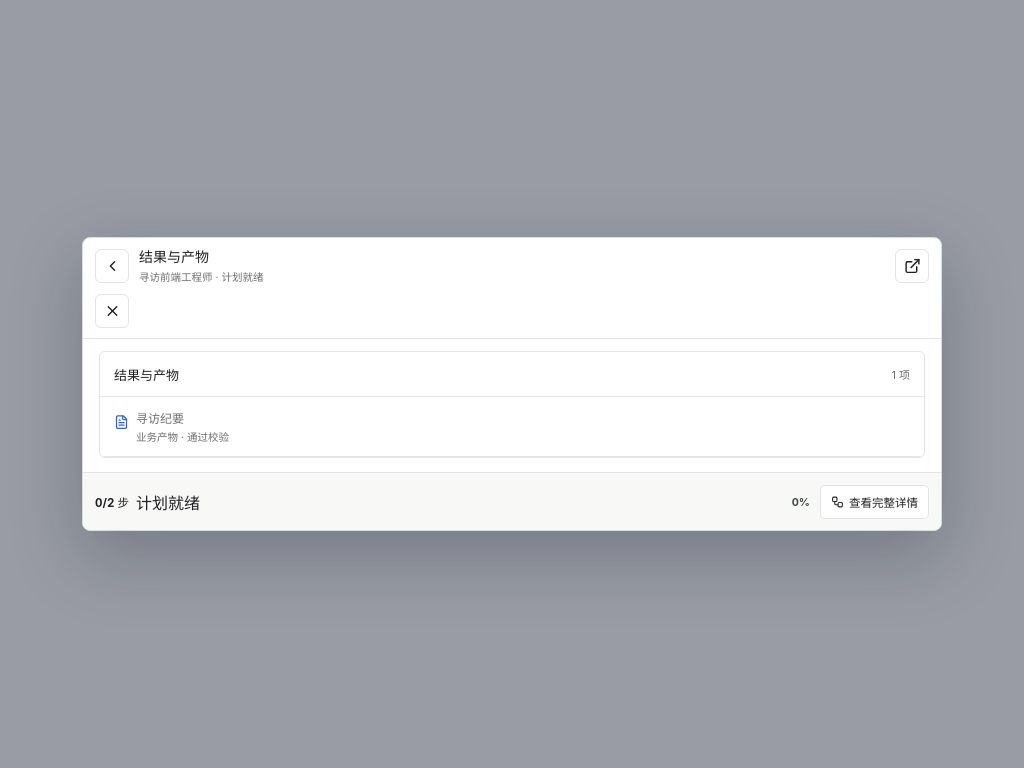
Scenario: 工作流模块二级界面 › 产物界面列出产物，点击打开产物详情弹窗
Check: the 1st heading "结果与产物" is shown, box x1=139 y1=248 x2=209 y2=264
What coordinates should you click on to do the following:
click the button with aria-label "查看产物：寻访纪要"
I would click on:
 (160, 419)
Its box is x1=100 y1=397 x2=924 y2=457.
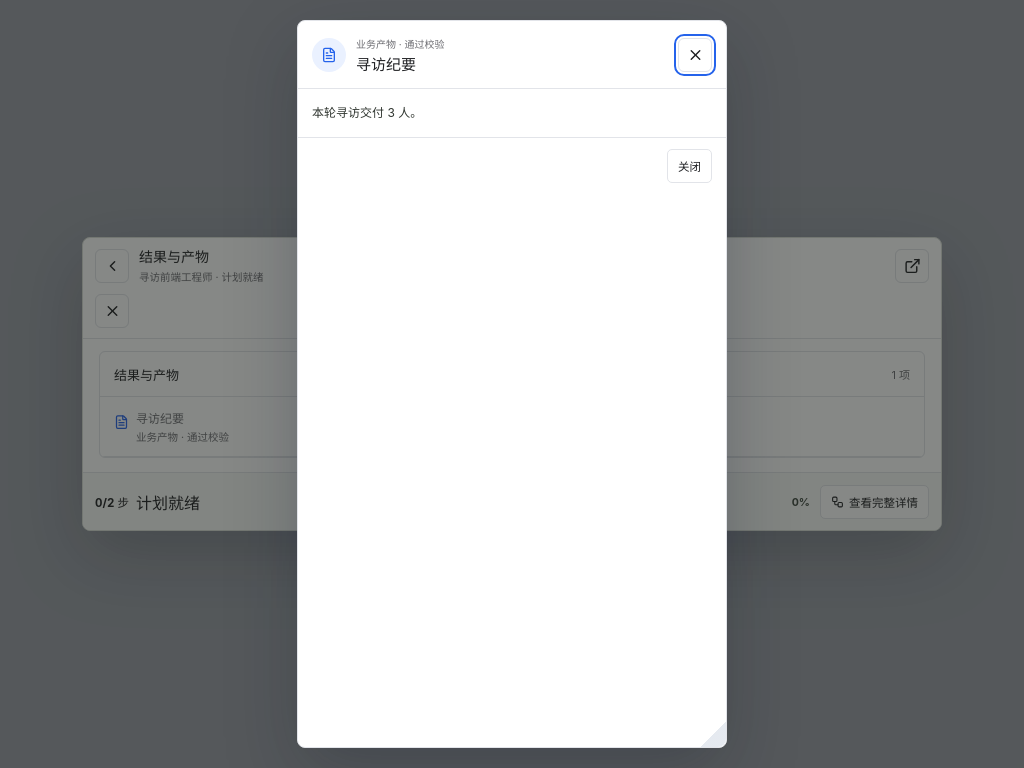
Check: the text "本轮寻访交付 3 人。" is shown, box x1=312 y1=105 x2=422 y2=120
